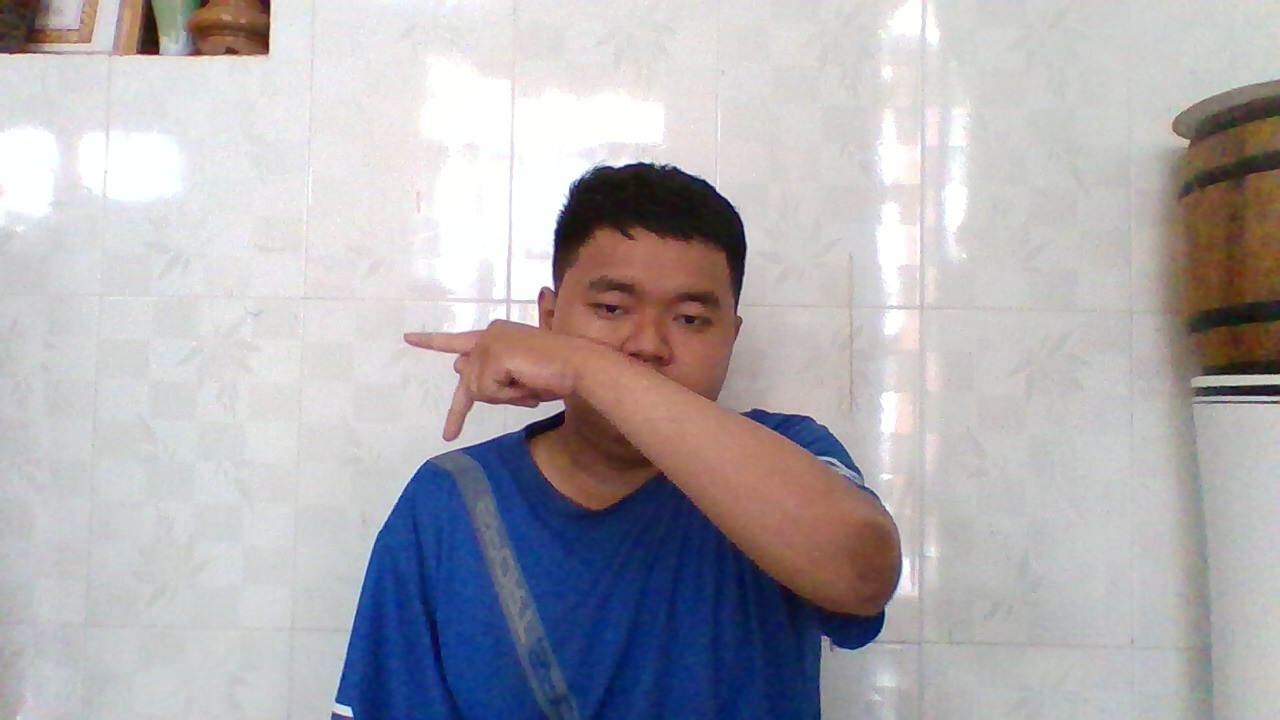P: (392, 317, 597, 439)
